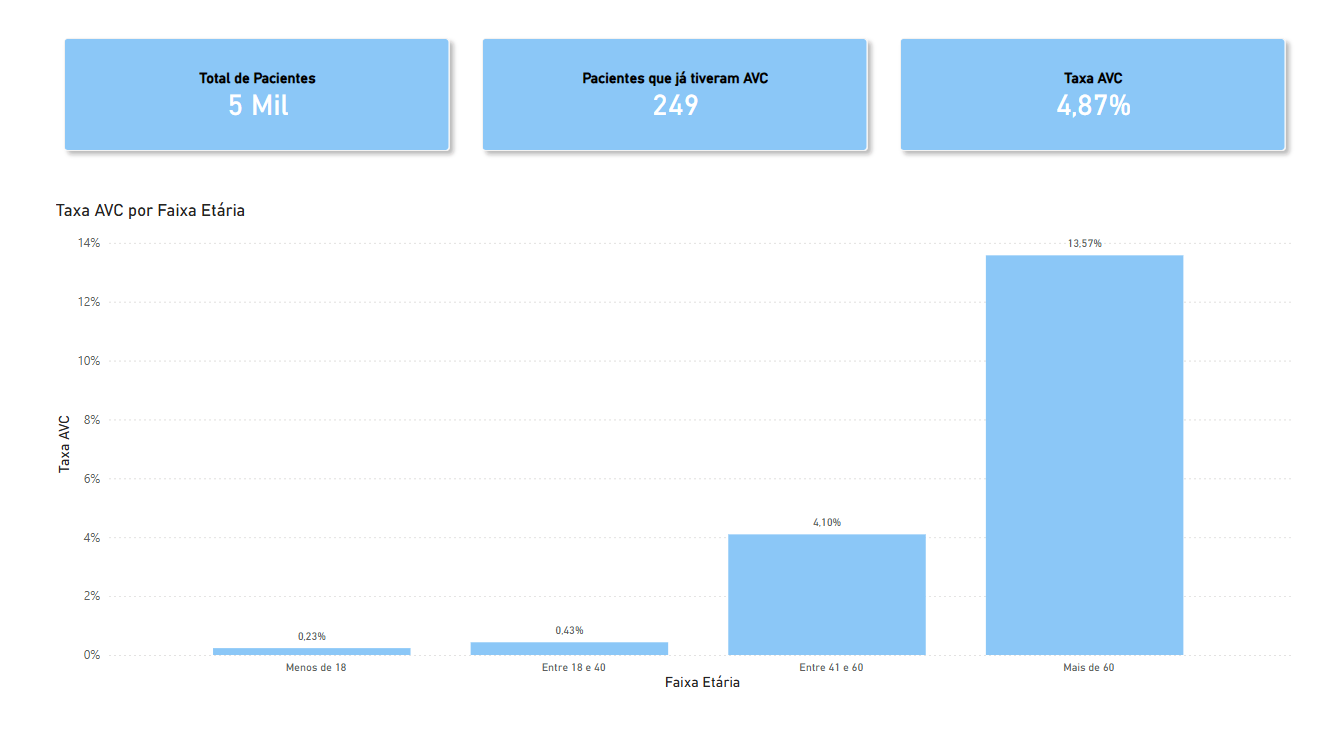

The page's visual inventory and layout, read from the dashboard file:
{"tool":"powerbi","page":{"name":"Página 1","canvas":[1280,720],"ordinal":0},"visuals":[{"type":"cardVisual","title":"Total de pacientes","fields":{"Data":["public pacientes_avc.Total Pacientes","public pacientes_avc.Pacientes que já tiveram AVC","public pacientes_avc.Taxa AVC"]},"box":[0,0,1280,171.3],"z":0},{"type":"columnChart","fields":{"Category":["public pacientes_avc.Faixa Etária"],"Y":["public pacientes_avc.Taxa AVC"]},"box":[15.8,190.6,1249.3,495.5],"z":1000}]}

Visuals, with their boxes in screenshot pixels (x1, y1, x2, y2), scaled from the page's 1280x720 canvas onto the 1341x749 screenshot:
"Total de pacientes" cardVisual: bbox=(0, 0, 1340, 178)
columnChart - public pacientes_avc.Faixa Etária x public pacientes_avc.Taxa AVC: bbox=(17, 198, 1325, 714)
